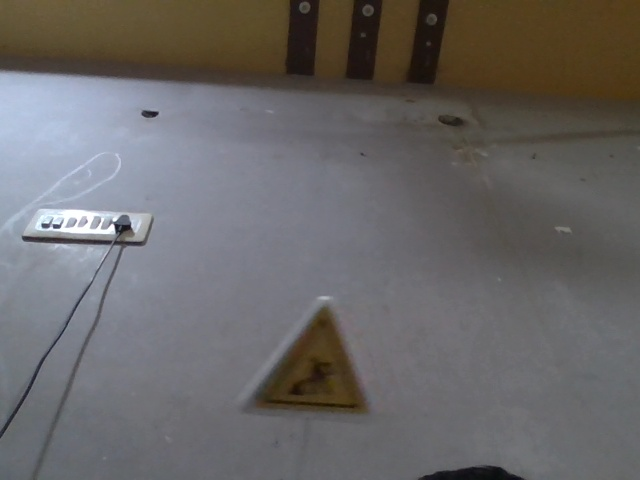workinprogress: (215, 284, 379, 419)
